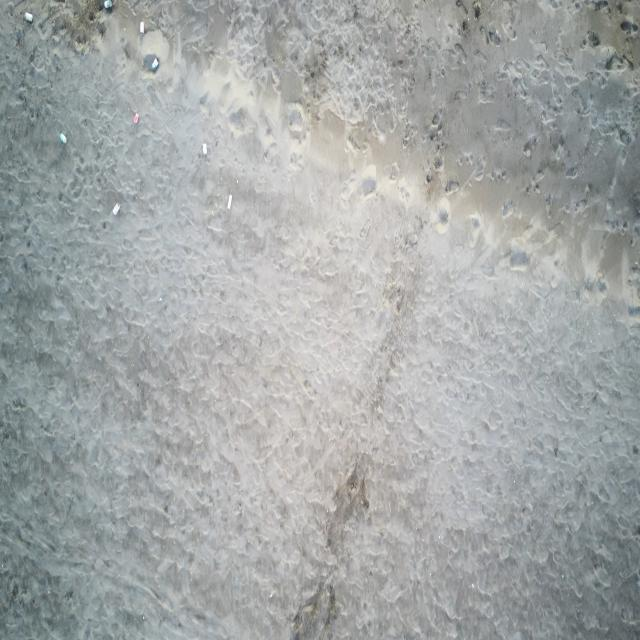Garbage: (143, 54, 158, 71), (111, 203, 119, 215), (103, 0, 111, 11), (151, 58, 158, 70), (24, 12, 32, 22), (132, 112, 139, 123), (227, 193, 232, 208), (201, 143, 207, 155), (59, 131, 65, 143), (139, 20, 143, 33)
